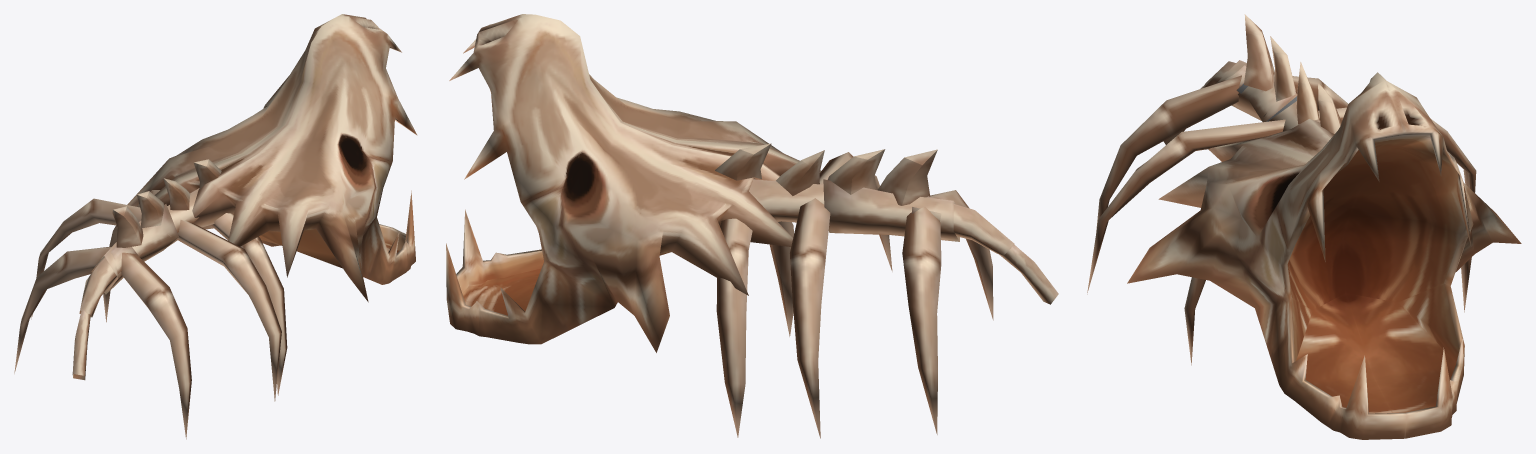
Rendered from gutou06.FBX.
3 renders of one model, left to right at view 1: azimuth 30°, elevation 25°; view 2: azimuth 150°, elevation 25°; view 3: azimuth 270°, elevation 25°, orthographic. The views are drawn at different scales.
Parts seen in each view (by area): view 1: wujian; view 2: wujian; view 3: wujian.
Boxes of the visible parts, left/top/right/bottom form: wujian: left=14, top=14, right=417, bottom=439; wujian: left=446, top=14, right=1058, bottom=438; wujian: left=1087, top=14, right=1521, bottom=439.
Bounding box in the file's own units: 255 × 170 × 181.
